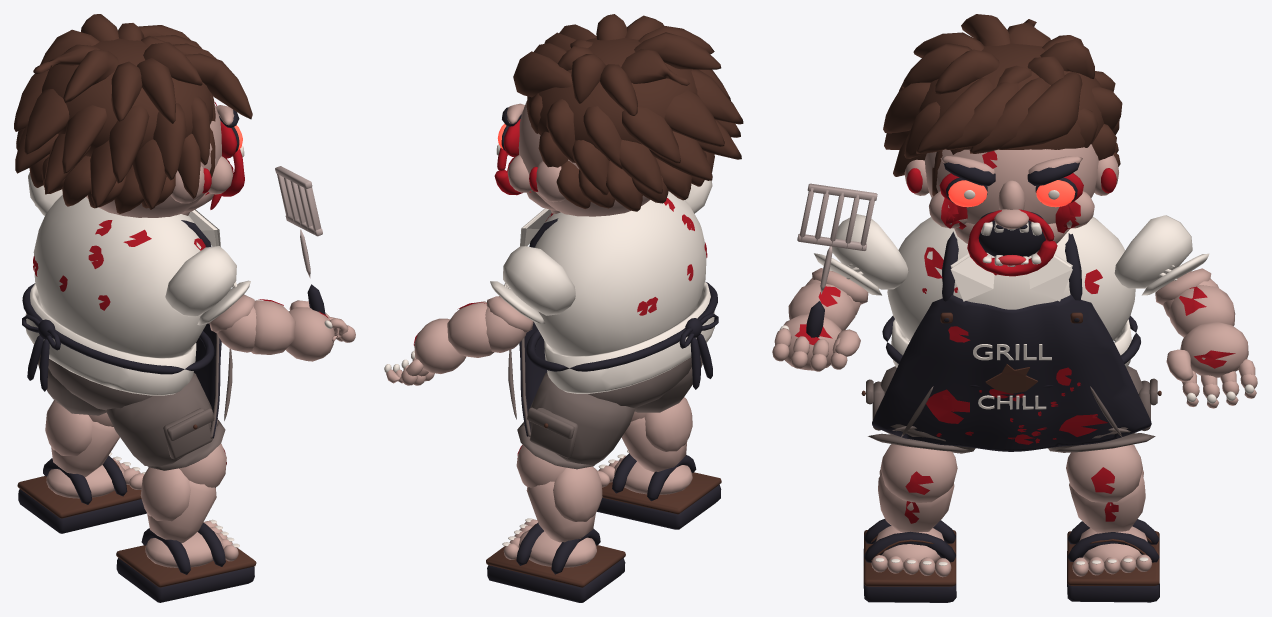
3 views of the same model, side by side, from view 1: azimuth 30°, elevation 25°; view 2: azimuth 150°, elevation 25°; view 3: azimuth 270°, elevation 25° (orthographic). The views are drawn at different scales.
Visible parts, largest first — view 1: head__pal_woodWarm, torso__pal_picketWhite, legR__pal_asphalt, shinR__pal_infectedSkin, torso__pal_uiDark, armR__pal_picketWhite, shinL__pal_infectedSkin, footR__pal_uiDark, head__pal_infectedSkin, footL__pal_uiDark, foreArmR__pal_infectedSkin, handR__pal_infectedSkin (+12 smaller); view 2: head__pal_woodWarm, torso__pal_picketWhite, legL__pal_asphalt, shinL__pal_infectedSkin, torso__pal_uiDark, armL__pal_picketWhite, head__pal_infectedSkin, shinR__pal_infectedSkin, footL__pal_uiDark, footR__pal_uiDark, foreArmL__pal_infectedSkin, handL__pal_infectedSkin (+11 smaller); view 3: torso__pal_uiDark, head__pal_woodWarm, torso__pal_picketWhite, head__pal_infectedSkin, shinR__pal_infectedSkin, shinL__pal_infectedSkin, handL__pal_infectedSkin, head__pal_blood, armL__pal_picketWhite, armR__pal_picketWhite, torso__pal_blood, footR__pal_uiDark (+18 smaller).
Boxes of the visible parts, x1,y1,x2,y2 form: head__pal_woodWarm: (14, 14, 252, 213); torso__pal_picketWhite: (25, 194, 220, 395); legR__pal_asphalt: (106, 372, 225, 470); shinR__pal_infectedSkin: (140, 444, 226, 542); torso__pal_uiDark: (22, 220, 221, 438); armR__pal_picketWhite: (165, 246, 250, 325); shinL__pal_infectedSkin: (45, 400, 119, 477); footR__pal_uiDark: (116, 522, 254, 602); head__pal_infectedSkin: (86, 104, 234, 217); footL__pal_uiDark: (18, 456, 146, 533); foreArmR__pal_infectedSkin: (217, 300, 295, 354); handR__pal_infectedSkin: (286, 300, 355, 361); head__pal_woodWarm: (513, 14, 743, 211); torso__pal_picketWhite: (520, 191, 714, 393); legL__pal_asphalt: (517, 372, 635, 469); shinL__pal_infectedSkin: (516, 445, 602, 542); torso__pal_uiDark: (519, 218, 718, 436); armL__pal_picketWhite: (490, 246, 575, 323); head__pal_infectedSkin: (506, 101, 649, 216); shinR__pal_infectedSkin: (621, 397, 692, 471); footL__pal_uiDark: (487, 522, 625, 602); footR__pal_uiDark: (597, 453, 721, 529); foreArmL__pal_infectedSkin: (447, 301, 526, 357); handL__pal_infectedSkin: (386, 318, 465, 385); torso__pal_uiDark: (872, 231, 1151, 451); head__pal_woodWarm: (883, 14, 1122, 196); torso__pal_picketWhite: (887, 216, 1135, 409); head__pal_infectedSkin: (904, 144, 1118, 253); shinR__pal_infectedSkin: (878, 444, 957, 532); shinL__pal_infectedSkin: (1066, 444, 1145, 532); handL__pal_infectedSkin: (1166, 321, 1257, 408); head__pal_blood: (906, 151, 1116, 276); armL__pal_picketWhite: (1114, 215, 1209, 295); armR__pal_picketWhite: (814, 214, 908, 295); torso__pal_blood: (922, 247, 1107, 444); footR__pal_uiDark: (863, 519, 956, 602).
Size of what is drawn, in the model's own units: 0.7397 by 1.6 by 1.31.
